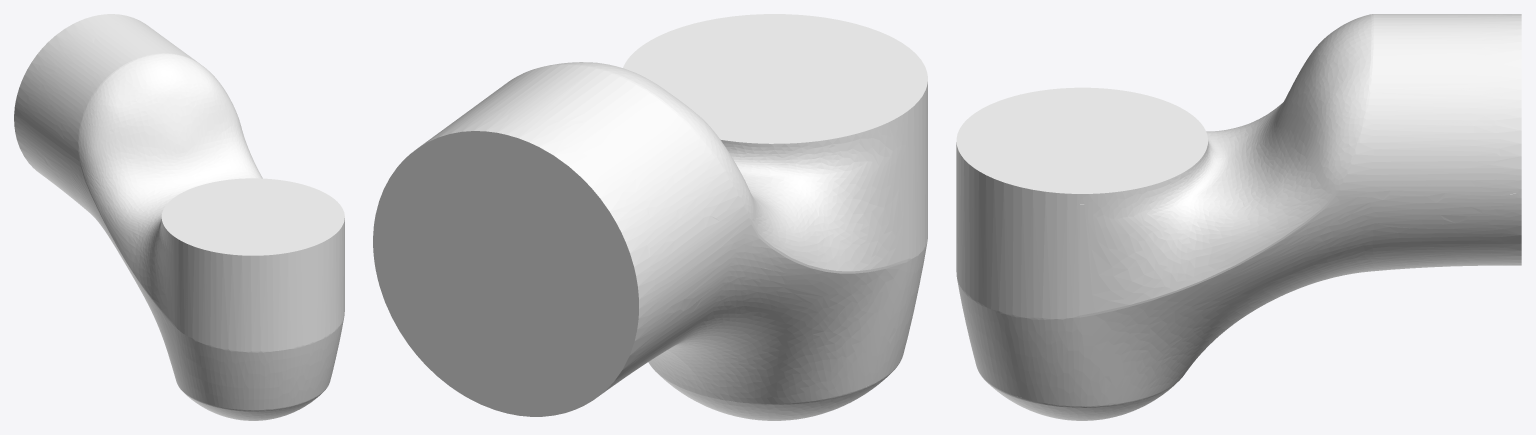
3 renders of one model, left to right at view 1: azimuth 30°, elevation 25°; view 2: azimuth 150°, elevation 25°; view 3: azimuth 270°, elevation 25°, orthographic. The views are drawn at different scales.
Parts seen in each view (by area): view 1: node0; view 2: node0; view 3: node0.
Part boxes in pixels (x1,y1,x2,y2): node0: (14,14,344,420); node0: (373,14,927,420); node0: (956,14,1521,420).
Size of the model in its own units: 0.11 by 0.1844 by 0.247.
1 material, 1 textured.
